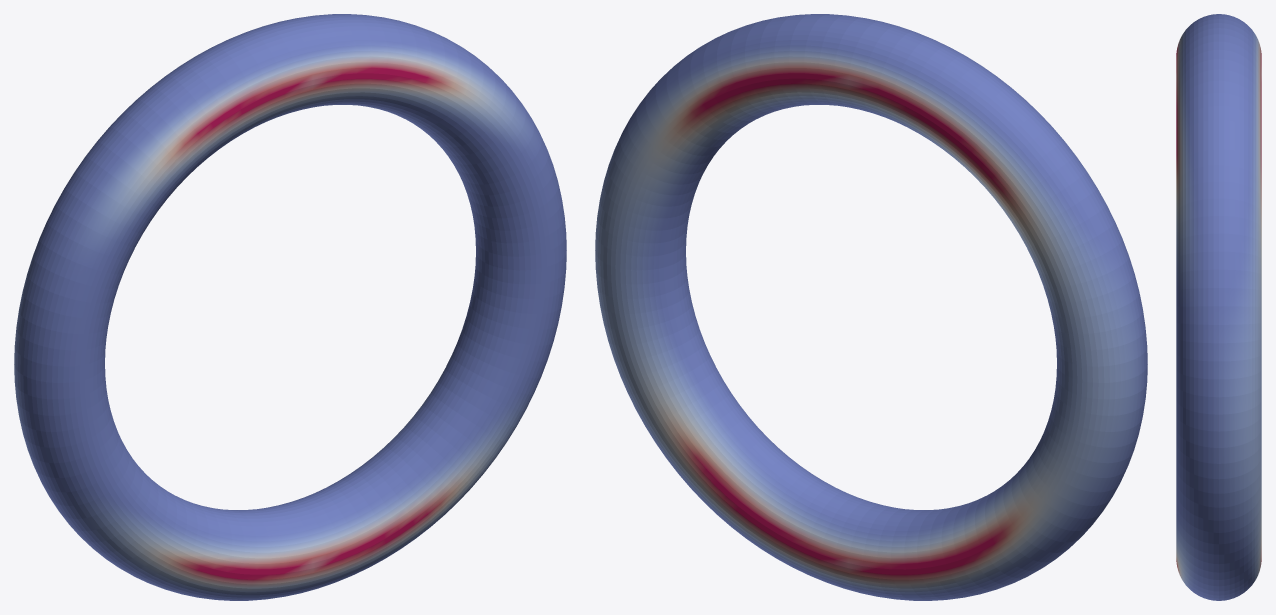
3 views of the same model, side by side, from view 1: azimuth 30°, elevation 25°; view 2: azimuth 150°, elevation 25°; view 3: azimuth 270°, elevation 25° (orthographic). The views are drawn at different scales.
Visible parts, largest first — view 1: world; view 2: world; view 3: world.
Part boxes in pixels (x1,y1,x2,y2): world: [14, 14, 566, 600]; world: [595, 14, 1147, 600]; world: [1176, 14, 1261, 600].
Size of the model in its own units: 21.07 by 21.07 by 3.06.
